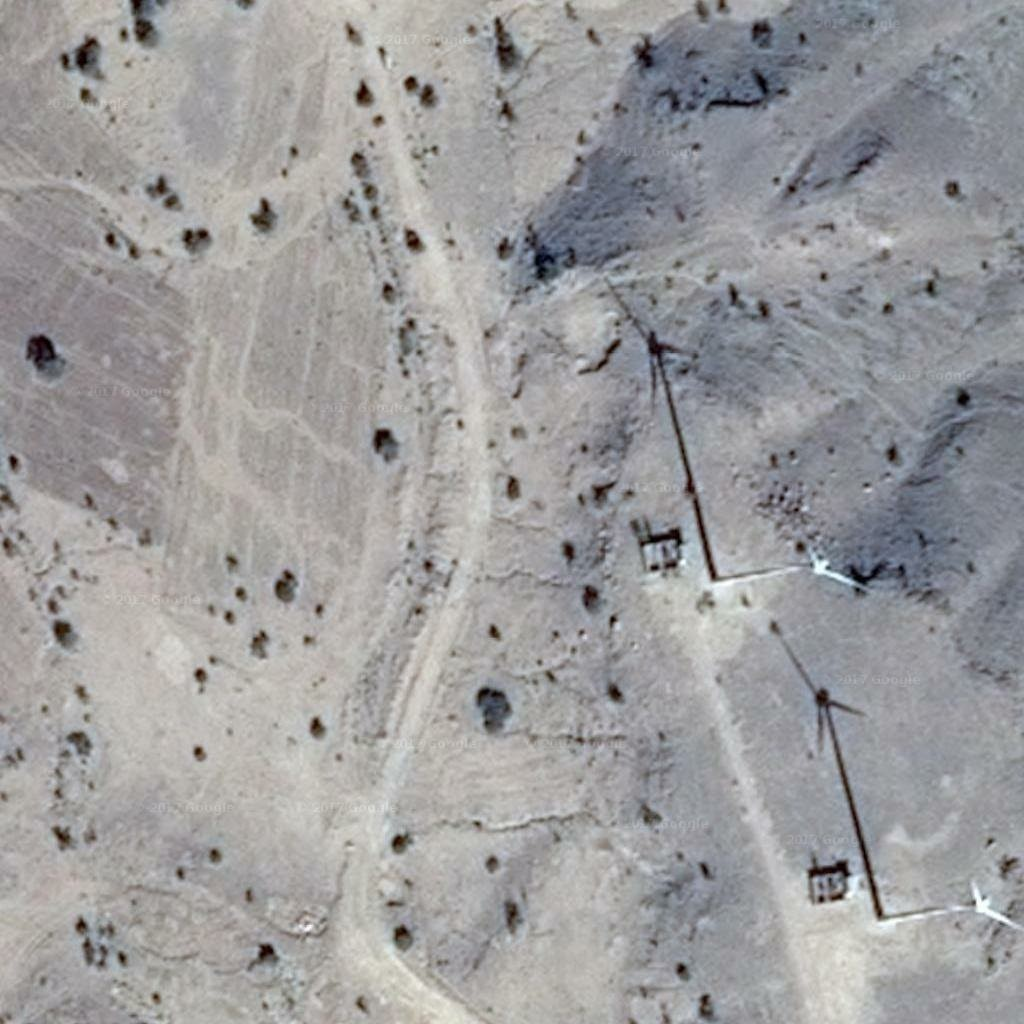Windmill: (607, 279, 728, 575)
